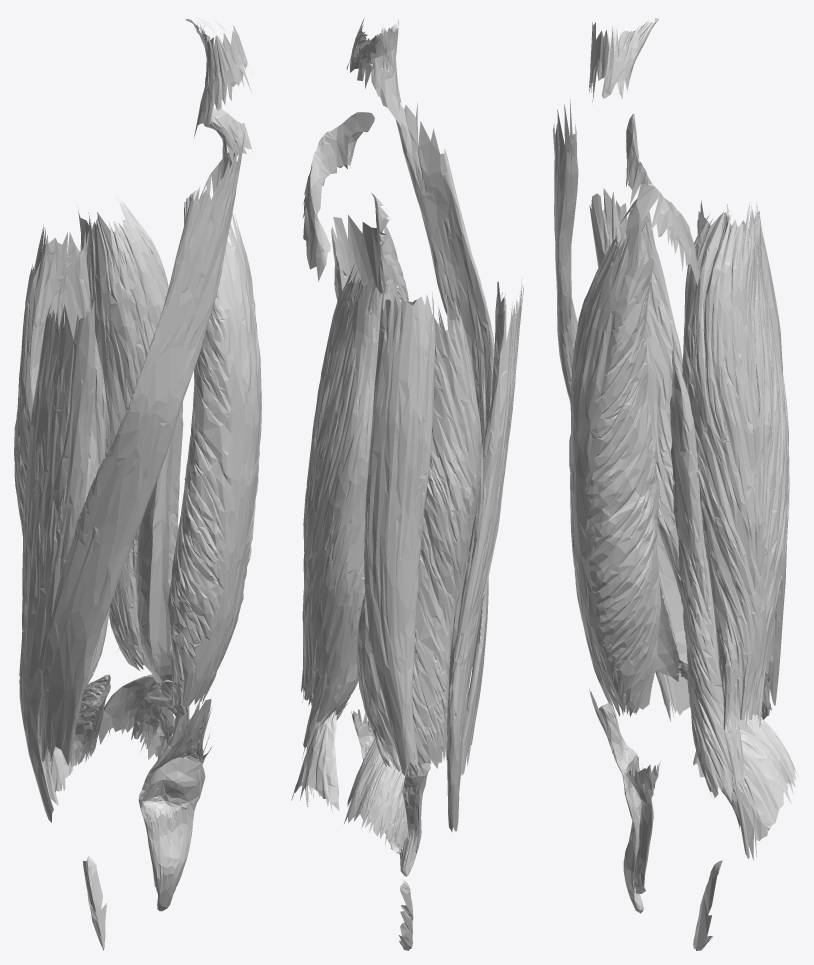
The model's file is muscles.glb.
3 renders of one model, left to right at view 1: azimuth 30°, elevation 25°; view 2: azimuth 150°, elevation 25°; view 3: azimuth 270°, elevation 25°, orthographic. The views are drawn at different scales.
Visible parts, largest first — view 1: geometry_0; view 2: geometry_0; view 3: geometry_0.
Part boxes in pixels (left/top/right/bottom): geometry_0: left=14, top=16, right=261, bottom=950; geometry_0: left=291, top=17, right=523, bottom=950; geometry_0: left=553, top=18, right=797, bottom=950.
Bounding box in the file's own units: 0.5902 × 2.48 × 0.5717.
Materials: 1 (1 with a texture image).
